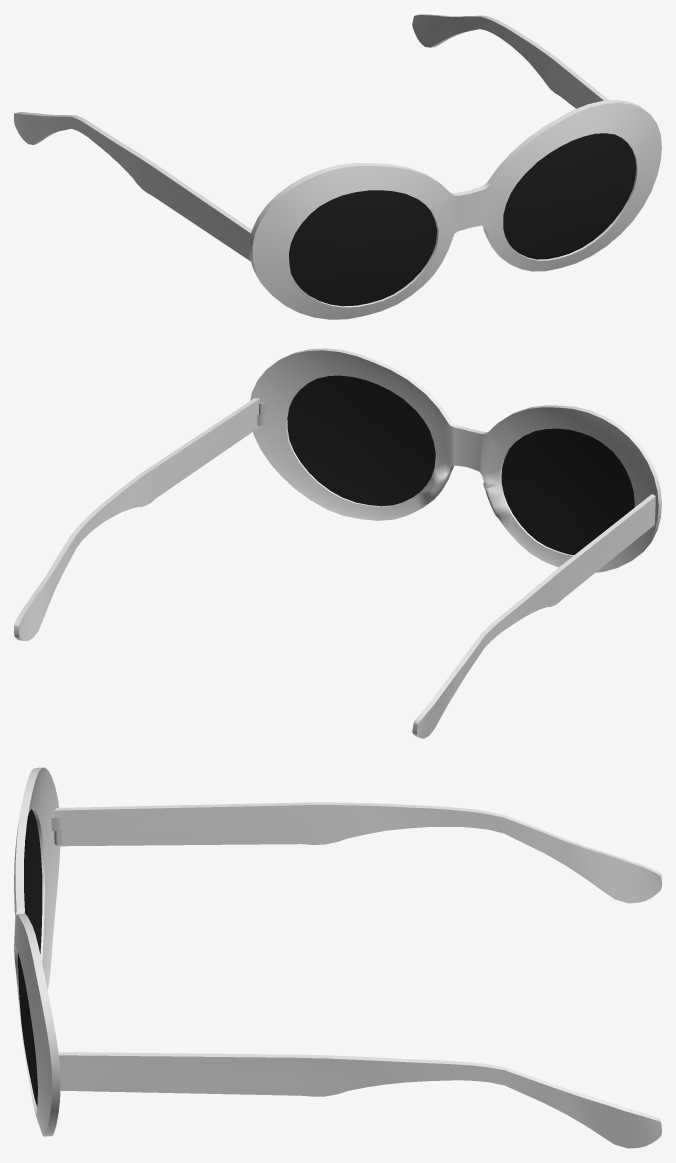
File: Sunglasses.obj
The picture shows the model from 3 angles, top to bottom: view 1: azimuth 30°, elevation 25°; view 2: azimuth 150°, elevation 25°; view 3: azimuth 270°, elevation 25°; orthographic projection. The views are drawn at different scales.
Visible parts, largest first — view 1: Sunglasses; view 2: Sunglasses; view 3: Sunglasses.
Boxes of the visible parts, x1,y1,x2,y2 form: Sunglasses: [14, 14, 661, 319]; Sunglasses: [14, 348, 661, 738]; Sunglasses: [14, 767, 661, 1148].
Bounding box in the file's own units: 5.43 × 1.97 × 5.77.
